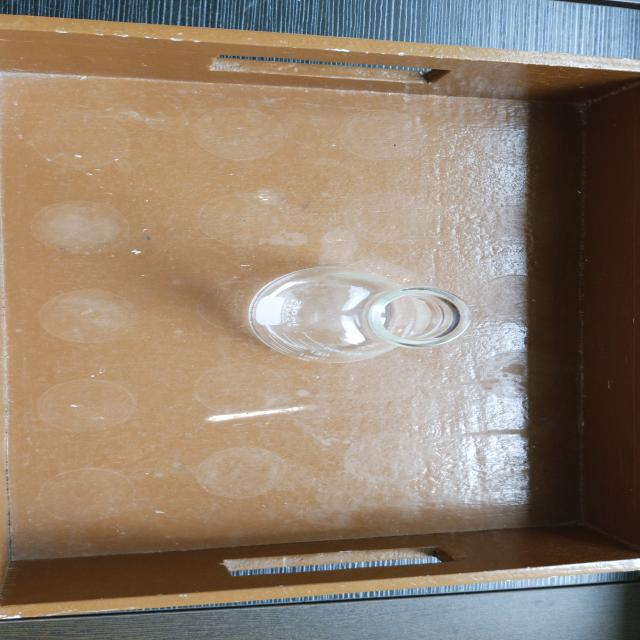erlenmeyer_flask: (240, 256, 477, 373)
